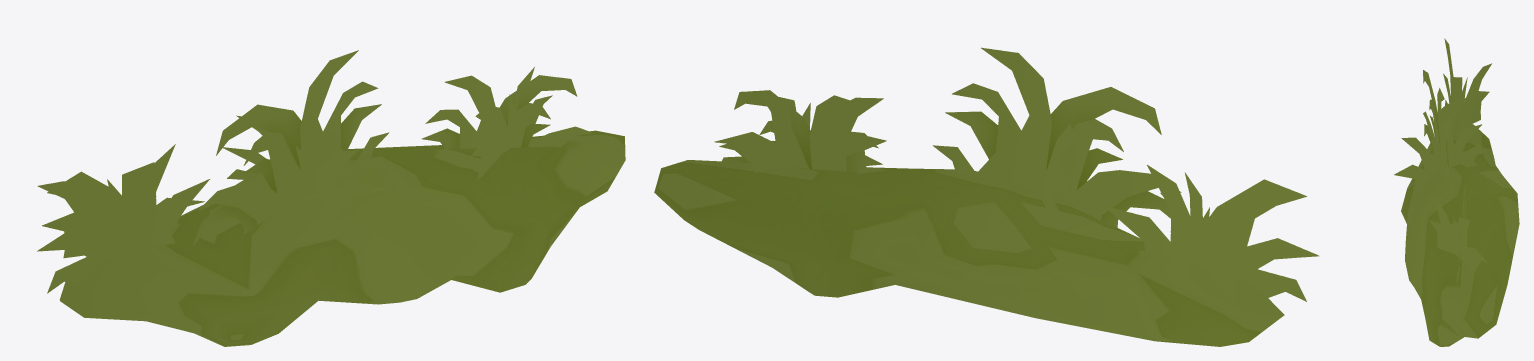
The model's file is SM_Env_Grass_Blob_03.fbx.
3 views of the same model, side by side, from view 1: azimuth 30°, elevation 25°; view 2: azimuth 150°, elevation 25°; view 3: azimuth 270°, elevation 25° (orthographic). The views are drawn at different scales.
Visible parts, largest first — view 1: SM_Env_Grass_Blob_03; view 2: SM_Env_Grass_Blob_03; view 3: SM_Env_Grass_Blob_03.
Part boxes in pixels (left/top/right/bottom): SM_Env_Grass_Blob_03: left=37, top=50, right=625, bottom=346; SM_Env_Grass_Blob_03: left=654, top=47, right=1319, bottom=346; SM_Env_Grass_Blob_03: left=1394, top=38, right=1519, bottom=346.
Size of the model in its own units: 80.04 by 36.32 by 22.1.
